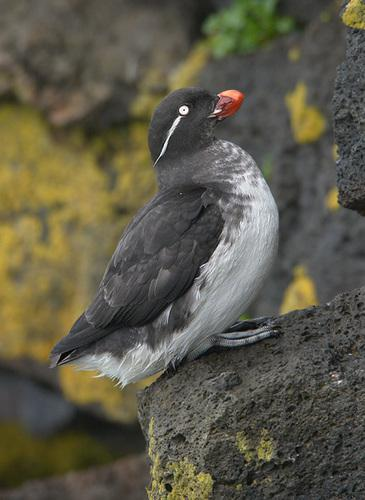007.Parakeet_Auklet: (48, 88, 290, 394)
